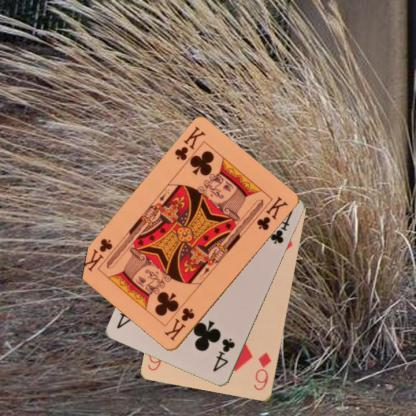4c: (210, 335, 237, 373)
6d: (250, 350, 272, 392)
Kc: (172, 124, 208, 162), (162, 305, 197, 343)
